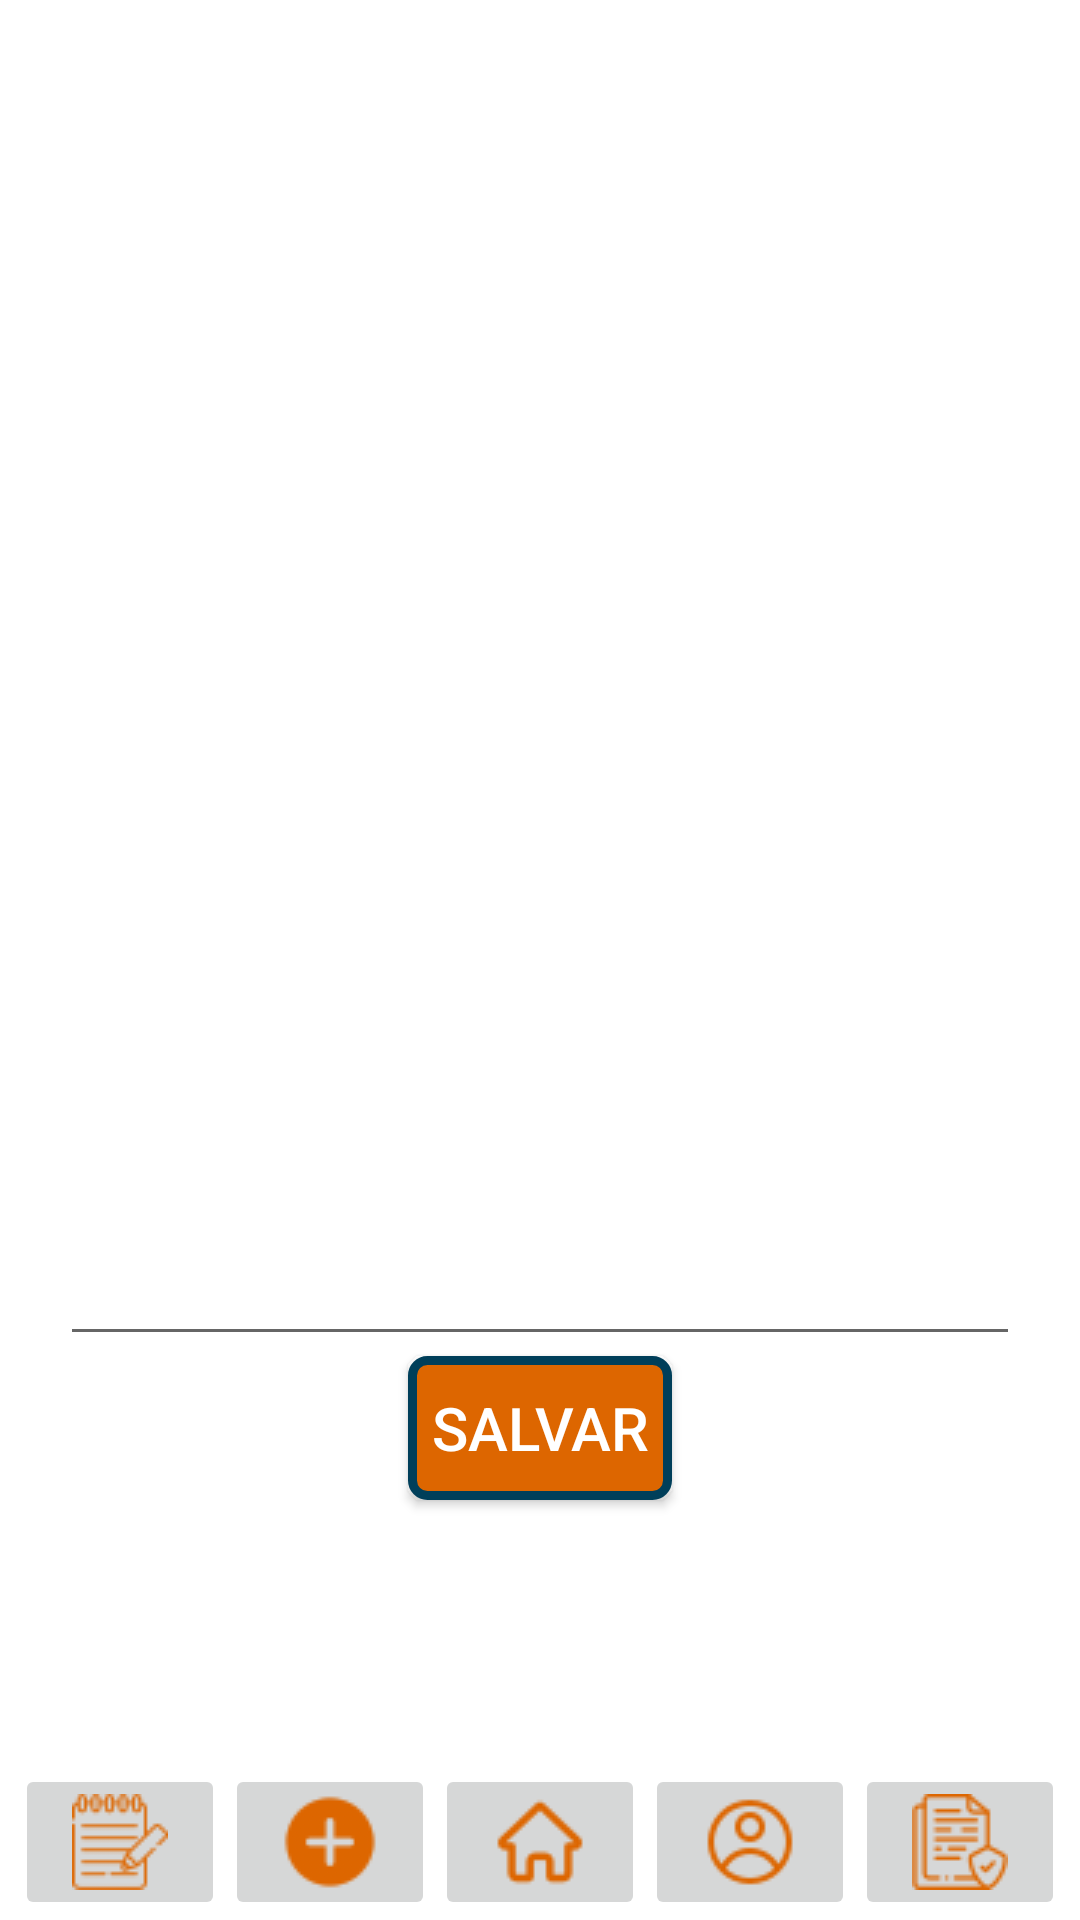

Icon bounding boxes for this 1080 x 1920 phone screenshot, format [left=x1, top=y1, right=x2, bottom=y2]:
add: [left=237, top=1782, right=423, bottom=1902]
caderno: [left=27, top=1782, right=213, bottom=1902]
casa: [left=447, top=1782, right=633, bottom=1902]
contrato: [left=867, top=1782, right=1053, bottom=1902]
